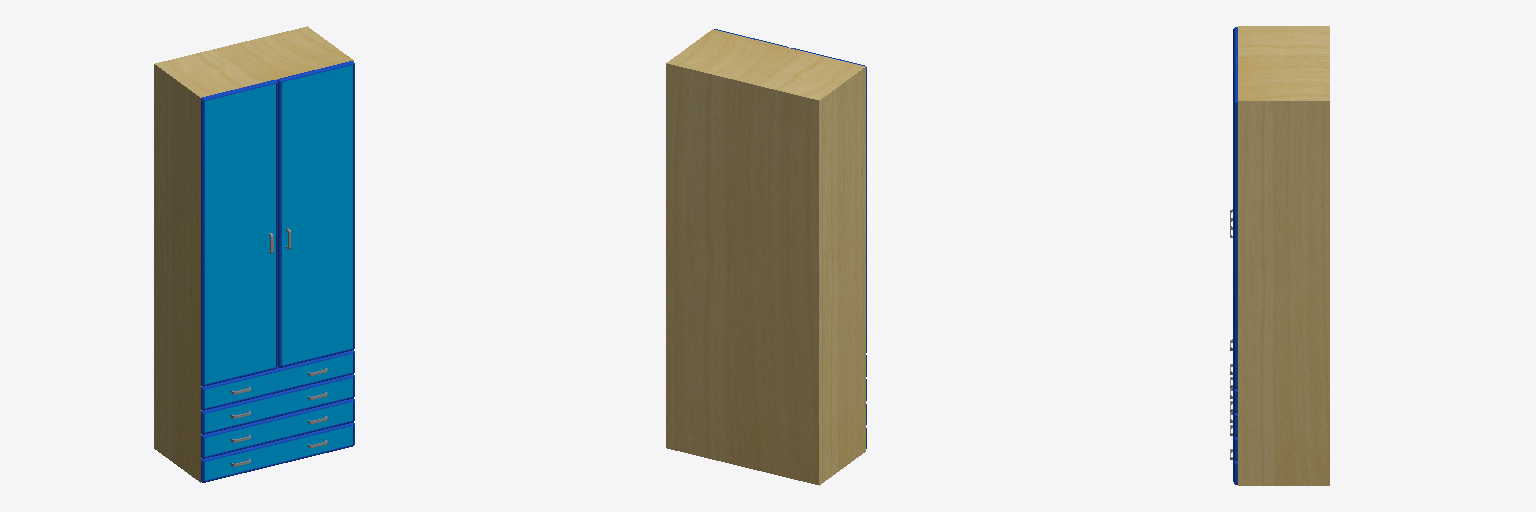
3 views of the same model, side by side, from view 1: azimuth 30°, elevation 25°; view 2: azimuth 150°, elevation 25°; view 3: azimuth 270°, elevation 25° (orthographic).
Parts seen in each view (by area): view 1: Box08_1, Box10_4, Box09_3, Box14_12, Box11_7, Box12_8, Box13_10, ChamferBox08_5, ChamferBox07_2, ChamferBox11_11, ChamferBox10_9, ChamferBox09_6 (+1 smaller); view 2: Box08_1; view 3: Box08_1, ChamferBox08_5.
Boxes of the visible parts, x1,y1,x2,y2 form: Box08_1: [154, 26, 353, 482]; Box10_4: [282, 65, 352, 364]; Box09_3: [205, 84, 275, 383]; Box14_12: [205, 354, 352, 407]; Box11_7: [205, 426, 352, 479]; Box12_8: [205, 402, 352, 455]; Box13_10: [205, 378, 352, 431]; ChamferBox08_5: [277, 61, 354, 367]; ChamferBox07_2: [201, 80, 277, 386]; ChamferBox11_11: [201, 374, 354, 434]; ChamferBox10_9: [201, 398, 354, 458]; ChamferBox09_6: [201, 422, 354, 482]; Box08_1: [666, 29, 865, 485]; Box08_1: [1238, 26, 1329, 485]; ChamferBox08_5: [1233, 64, 1237, 388].
Size of the model in its own units: 0.4167 by 1 by 0.2375.
Materials: 4 (1 with a texture image).